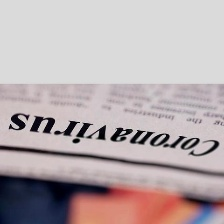news_paper: (0, 81, 224, 205)
